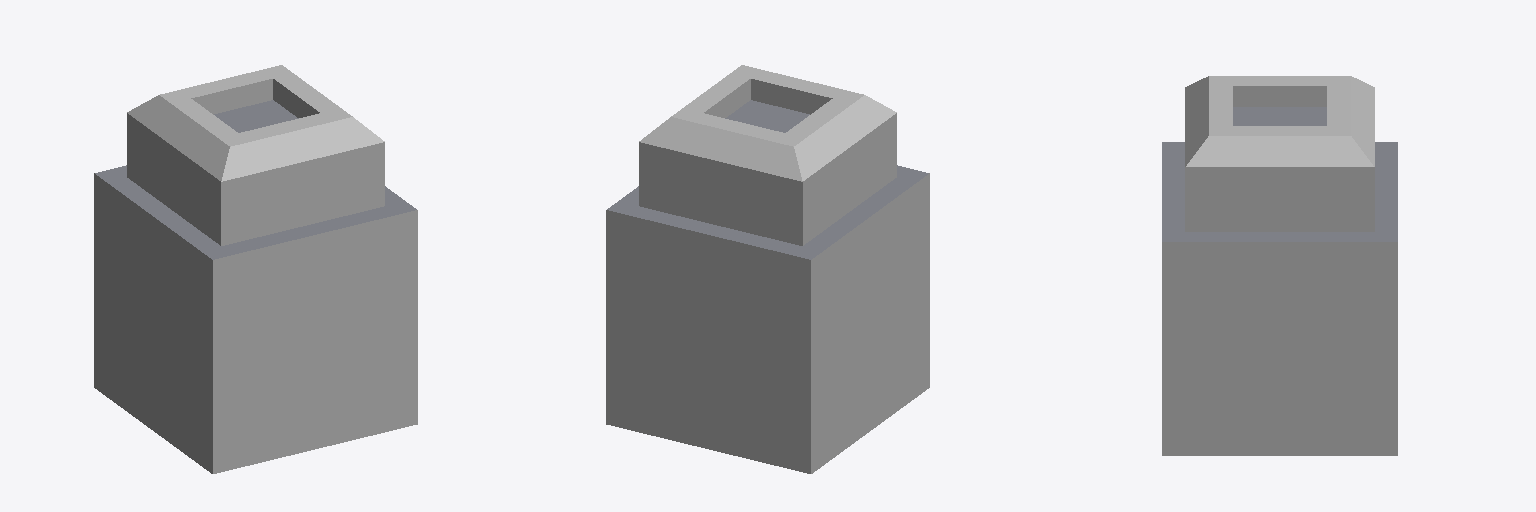
Rendered from low_buildingH.obj.
The picture shows the model from 3 angles: view 1: azimuth 30°, elevation 25°; view 2: azimuth 150°, elevation 25°; view 3: azimuth 270°, elevation 25°; orthographic projection.
Parts seen in each view (by area): view 1: low_buildingH; view 2: low_buildingH; view 3: low_buildingH.
Boxes of the visible parts, x1,y1,x2,y2 form: low_buildingH: [94, 65, 417, 473]; low_buildingH: [606, 65, 929, 473]; low_buildingH: [1162, 76, 1397, 455].
Size of the model in its own units: 0.5935 by 0.831 by 0.5935.